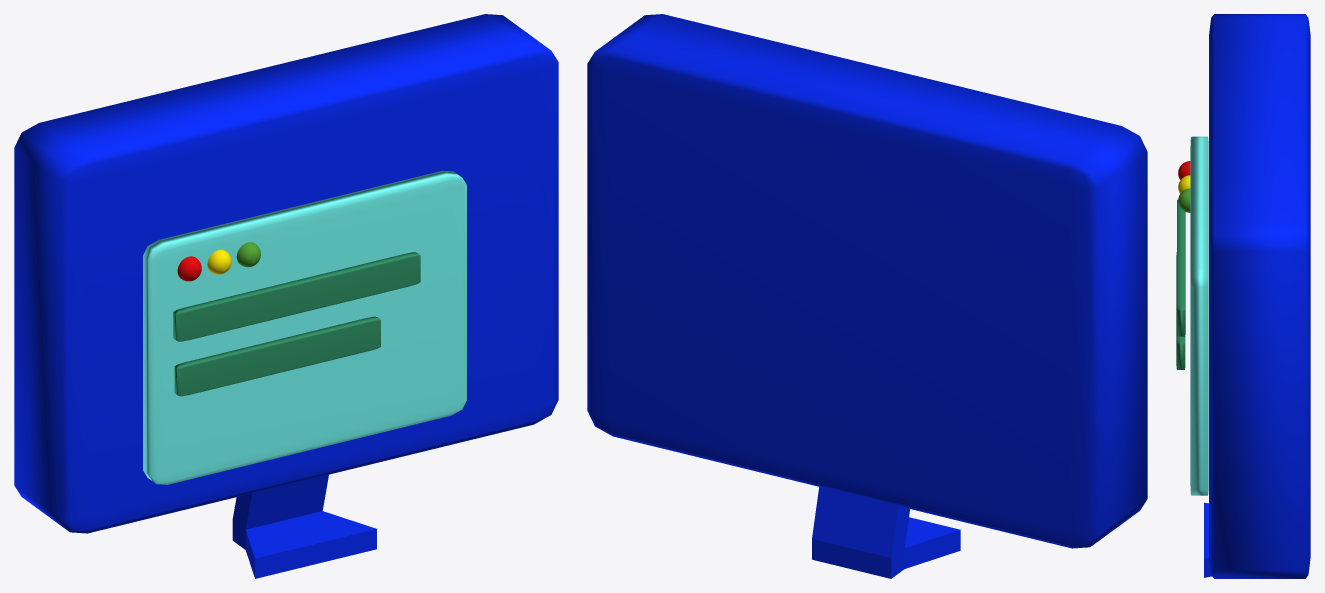
Rendered from monitor.glb.
3 renders of one model, left to right at view 1: azimuth 30°, elevation 25°; view 2: azimuth 150°, elevation 25°; view 3: azimuth 270°, elevation 25°, orthographic. The views are drawn at different scales.
Parts seen in each view (by area): view 1: Blue Monitor; view 2: Blue Monitor; view 3: Blue Monitor.
Boxes of the visible parts, left/top/right/bottom form: Blue Monitor: left=14, top=14, right=558, bottom=578; Blue Monitor: left=587, top=14, right=1147, bottom=578; Blue Monitor: left=1176, top=14, right=1310, bottom=578.
Size of the model in its own units: 3.29 by 2.89 by 0.8162.
